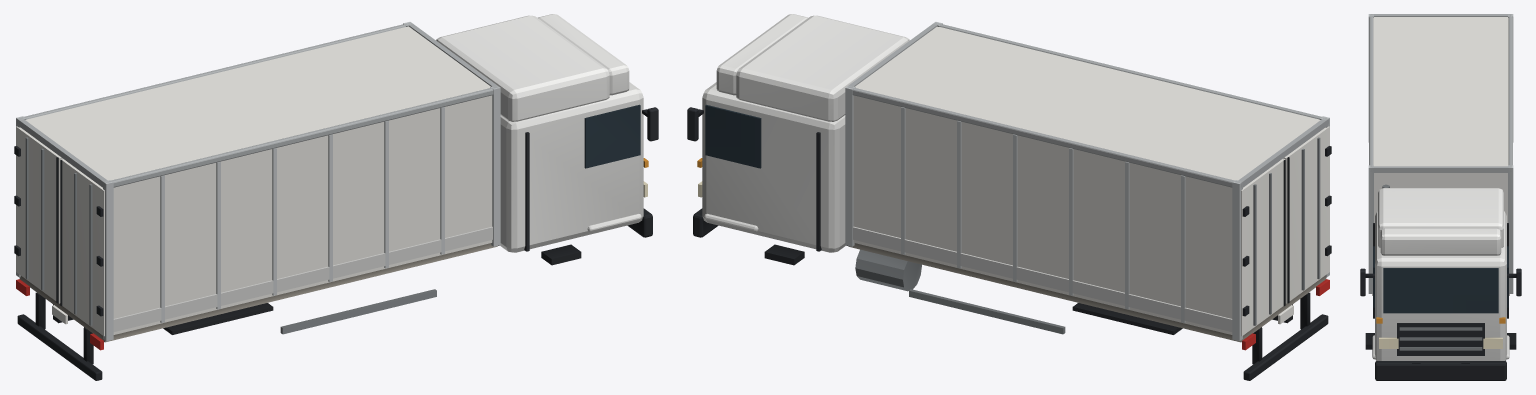
The model's file is camion-caja-Nvx5BWSU.glb.
3 views of the same model, side by side, from view 1: azimuth 30°, elevation 25°; view 2: azimuth 150°, elevation 25°; view 3: azimuth 270°, elevation 25° (orthographic). The views are drawn at different scales.
Visible parts, largest first — view 1: pieza.011, techo, pieza.038, pieza.039, puerta-2, puerta-1, pieza.018, pieza.023, pieza.049, pieza.002, pieza.040, pieza.020 (+15 smaller); view 2: pieza.003, techo, pieza.038, pieza.039, puerta-1, puerta-2, pieza.010, pieza.020, pieza.042, pieza.002, tanque, pieza.040 (+16 smaller); view 3: techo, pieza.038, pieza.041, pieza.039, pieza.040, pieza.062, pieza.056, pieza.019, pieza.027, pieza.023, pieza.020, pieza.022 (+9 smaller).
Boxes of the visible parts, x1=… form: pieza.011: x1=113, y1=95, x2=492, y2=334; techo: x1=25, y1=26, x2=490, y2=180; pieza.038: x1=500, y1=82, x2=643, y2=252; pieza.039: x1=436, y1=15, x2=609, y2=121; puerta-2: x1=14, y1=126, x2=62, y2=303; puerta-1: x1=60, y1=158, x2=104, y2=336; pieza.018: x1=113, y1=226, x2=492, y2=331; pieza.023: x1=104, y1=87, x2=497, y2=187; pieza.049: x1=584, y1=104, x2=640, y2=168; pieza.002: x1=19, y1=243, x2=497, y2=342; pieza.040: x1=537, y1=14, x2=629, y2=95; pieza.020: x1=17, y1=23, x2=409, y2=124; pieza.003: x1=853, y1=95, x2=1232, y2=334; techo: x1=855, y1=26, x2=1320, y2=180; pieza.038: x1=702, y1=82, x2=845, y2=252; pieza.039: x1=736, y1=15, x2=909, y2=121; puerta-1: x1=1283, y1=126, x2=1331, y2=303; puerta-2: x1=1241, y1=158, x2=1285, y2=336; pieza.010: x1=853, y1=226, x2=1232, y2=331; pieza.020: x1=848, y1=86, x2=1241, y2=187; pieza.042: x1=705, y1=104, x2=761, y2=168; pieza.002: x1=848, y1=243, x2=1326, y2=342; tanque: x1=855, y1=249, x2=921, y2=291; pieza.040: x1=716, y1=14, x2=808, y2=95; techo: x1=1373, y1=17, x2=1508, y2=166; pieza.038: x1=1375, y1=211, x2=1506, y2=360; pieza.041: x1=1383, y1=268, x2=1498, y2=313; pieza.039: x1=1378, y1=188, x2=1503, y2=247; pieza.040: x1=1380, y1=228, x2=1501, y2=255; pieza.062: x1=1375, y1=361, x2=1506, y2=380; pieza.056: x1=1397, y1=323, x2=1484, y2=355; pieza.019: x1=1374, y1=173, x2=1507, y2=222; pieza.027: x1=1371, y1=166, x2=1510, y2=172; pieza.023: x1=1369, y1=14, x2=1373, y2=171; pieza.020: x1=1508, y1=14, x2=1512, y2=171; pieza.022: x1=1508, y1=165, x2=1513, y2=293.
Size of the model in its own units: 9.37 by 3.28 by 2.94.
